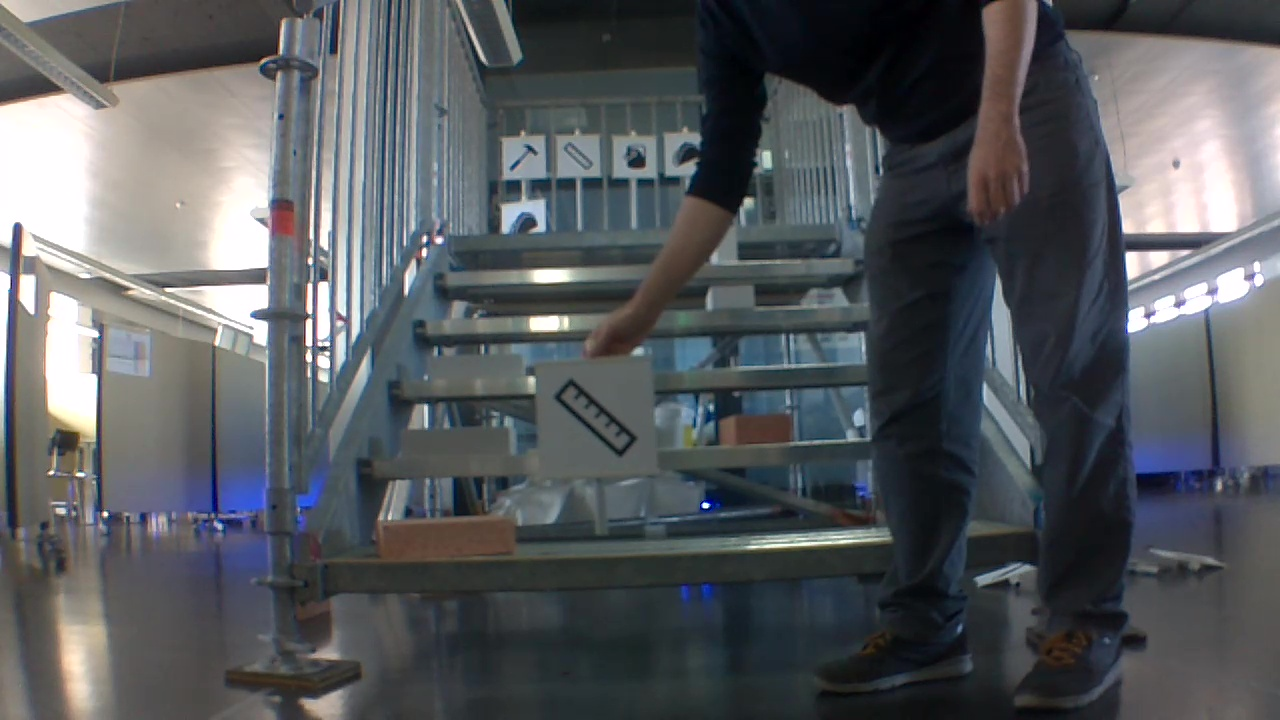brick: (374, 513, 518, 568), (393, 425, 518, 461), (423, 351, 528, 382), (723, 413, 794, 447), (702, 283, 762, 310), (718, 226, 738, 268)
bucket: (623, 143, 650, 171)
hammer: (509, 142, 538, 174)
ruler: (553, 368, 638, 455), (562, 139, 591, 173)
taco: (670, 138, 703, 168), (507, 207, 540, 235)
